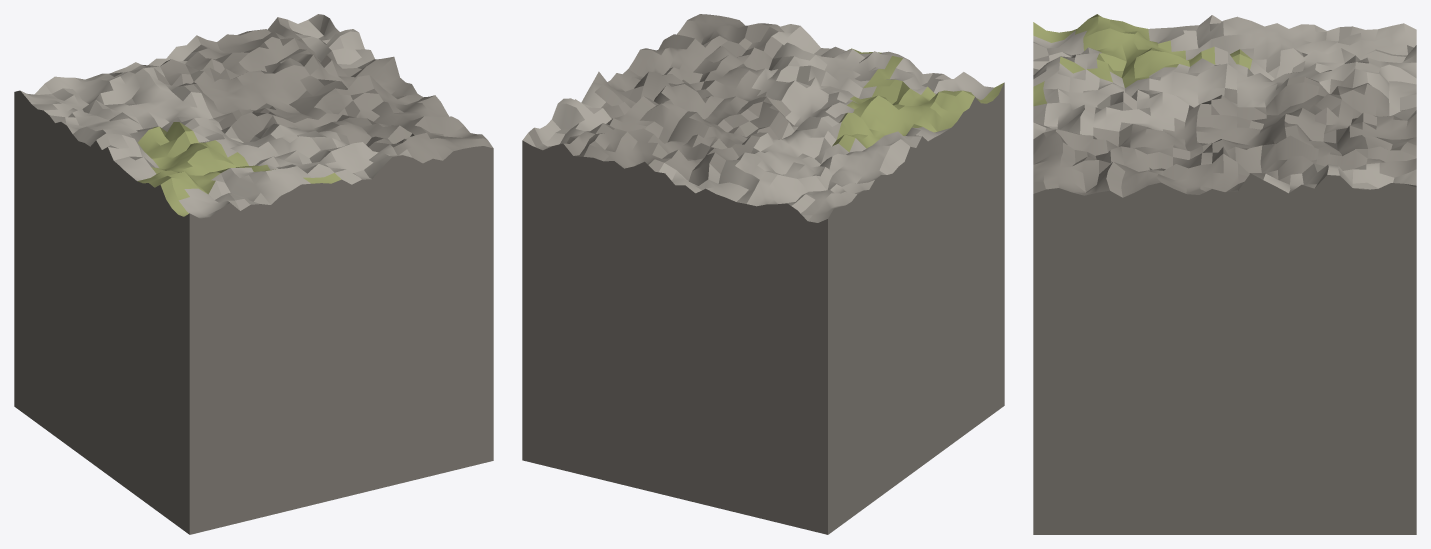
Rendered from kit-cliff-low.glb.
3 views of the same model, side by side, from view 1: azimuth 30°, elevation 25°; view 2: azimuth 150°, elevation 25°; view 3: azimuth 270°, elevation 25° (orthographic). The views are drawn at different scales.
Parts seen in each view (by area): view 1: cliff.001; view 2: cliff.001; view 3: cliff.001.
Boxes of the visible parts, bbox=[...] form: cliff.001: bbox=[14, 14, 493, 534]; cliff.001: bbox=[522, 14, 1004, 534]; cliff.001: bbox=[1033, 14, 1416, 534].
Bounding box in the file's own units: 1 × 1.05 × 1.
